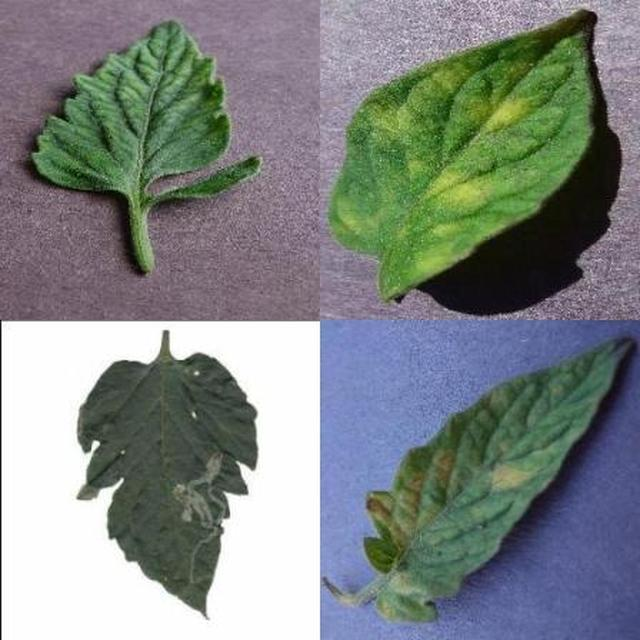Mosaic Virus Leaf: (211, 159, 640, 640)
